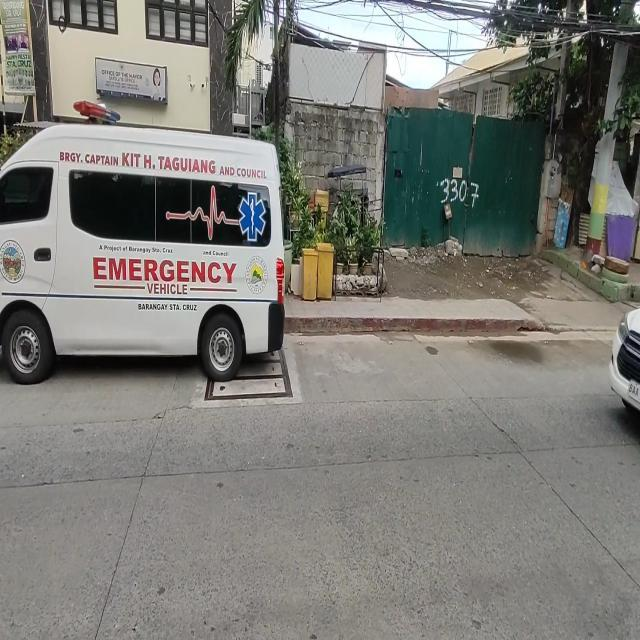emergency-vehicle: (0, 73, 295, 384), (88, 250, 242, 296)
